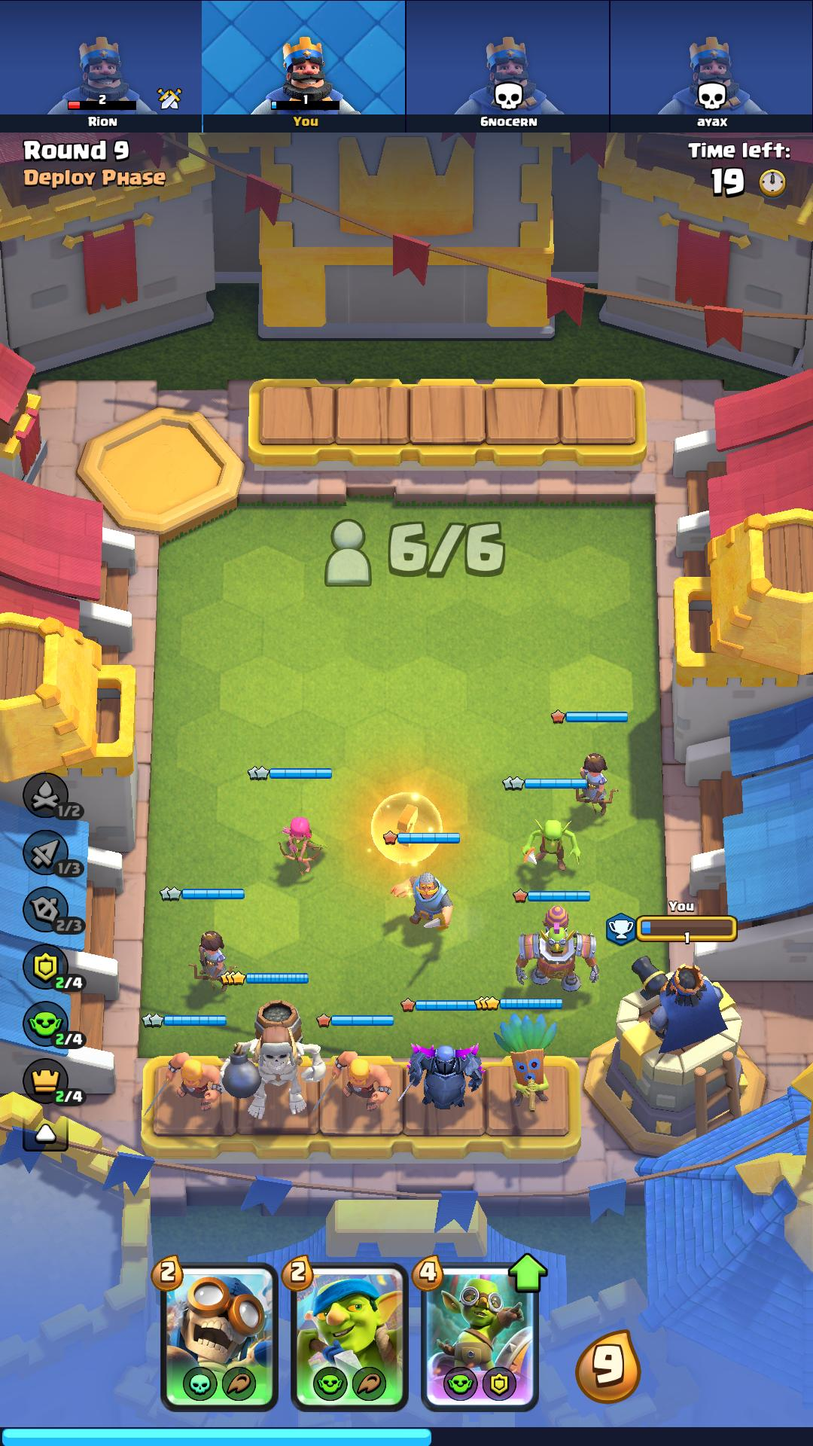archer: (274, 817, 328, 871)
barbarian: (145, 1044, 223, 1115), (327, 1040, 392, 1119)
dart: (489, 1009, 562, 1112)
giant: (220, 999, 329, 1120)
goblin: (515, 808, 583, 871)
hand-bomber: (165, 1266, 275, 1408)
hand-machine: (425, 1266, 536, 1404)
hand-spear: (294, 1263, 405, 1408)
knight: (387, 864, 457, 935)
machine: (507, 905, 603, 993)
orb: (367, 790, 445, 866)
pekka: (395, 1036, 491, 1115)
princess: (175, 922, 243, 994), (573, 751, 625, 820)
upgrade: (505, 1250, 549, 1292)
